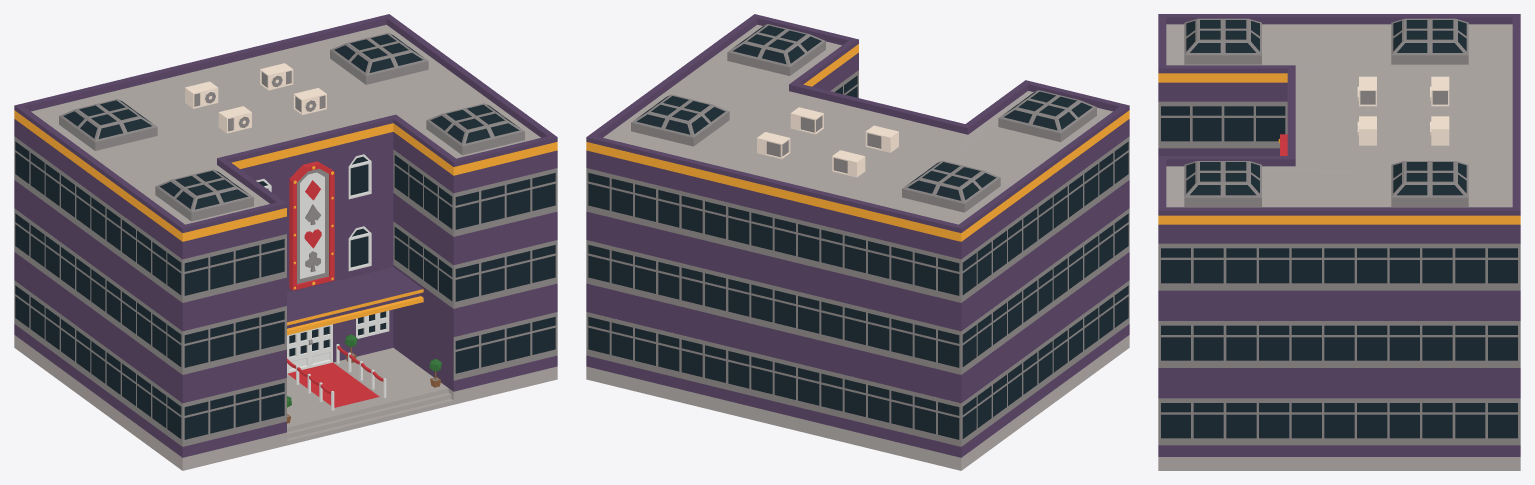
Rendered from building-casino.glb.
The picture shows the model from 3 angles, left to right: view 1: azimuth 30°, elevation 25°; view 2: azimuth 150°, elevation 25°; view 3: azimuth 270°, elevation 25°; orthographic projection. The views are drawn at different scales.
Visible parts, largest first — view 1: building-casino; view 2: building-casino; view 3: building-casino.
Part boxes in pixels (<box>): building-casino: <box>14,14,557,470</box>; building-casino: <box>586,14,1129,470</box>; building-casino: <box>1158,14,1520,470</box>.
Size of the model in its own units: 18 by 11.6 by 14.
1 material, 1 textured.
